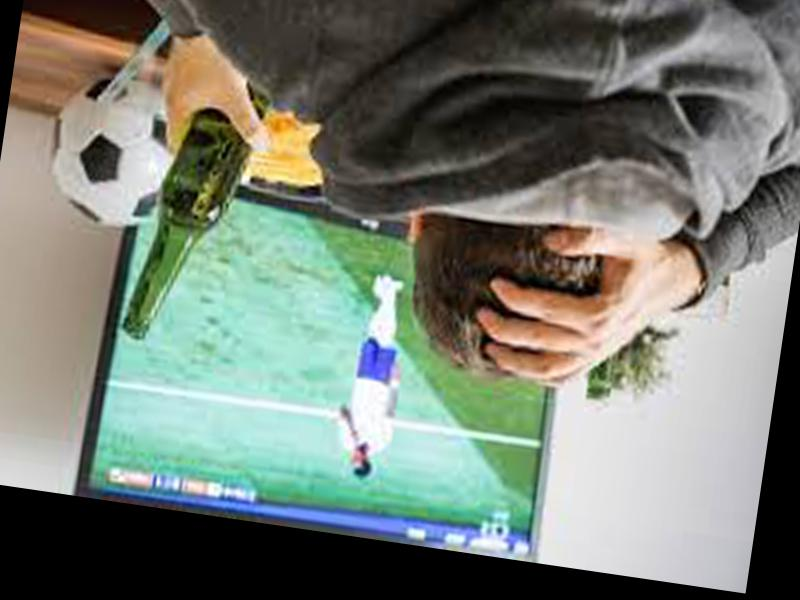Beer: (121, 63, 264, 351)
